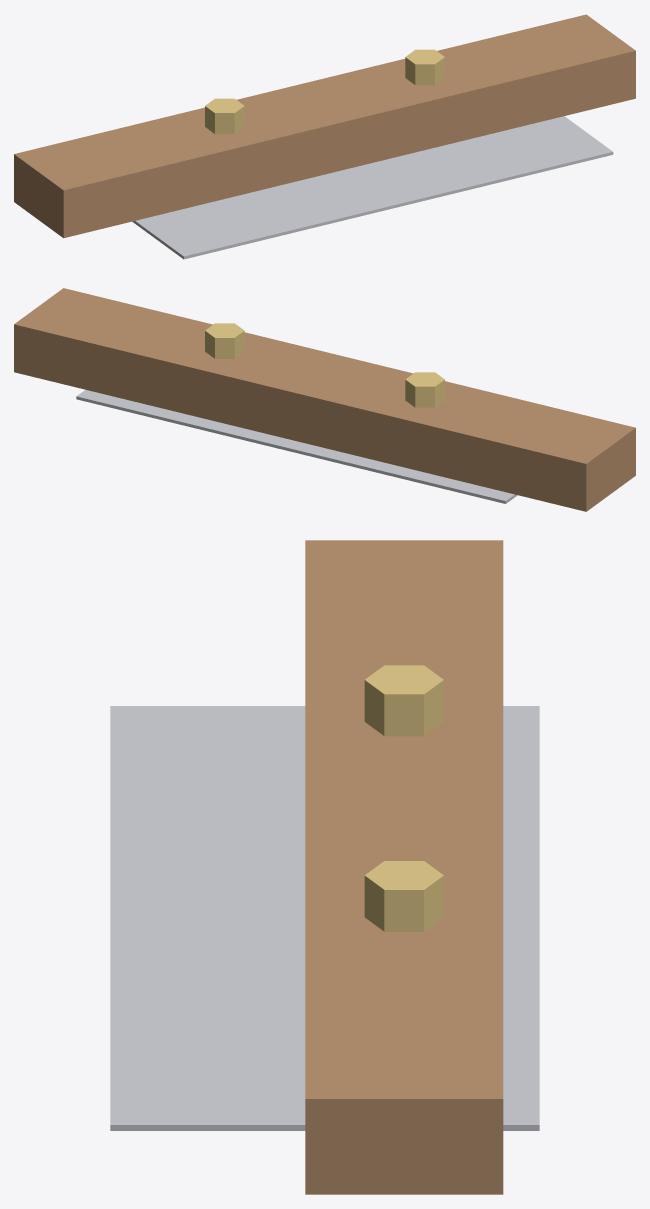
Rendered from prop-cabinet-scraper.fbx.
3 renders of one model, top to bottom at view 1: azimuth 30°, elevation 25°; view 2: azimuth 150°, elevation 25°; view 3: azimuth 270°, elevation 25°, orthographic. The views are drawn at different scales.
Visible parts, largest first — view 1: prop-cabinet-scraper; view 2: prop-cabinet-scraper; view 3: prop-cabinet-scraper.
Part boxes in pixels (box(x1,y1,x2,y2)): prop-cabinet-scraper: box(14, 14, 635, 259); prop-cabinet-scraper: box(14, 288, 635, 511); prop-cabinet-scraper: box(110, 540, 539, 1194).
Size of the model in its own units: 20 by 2.4 by 6.5.
